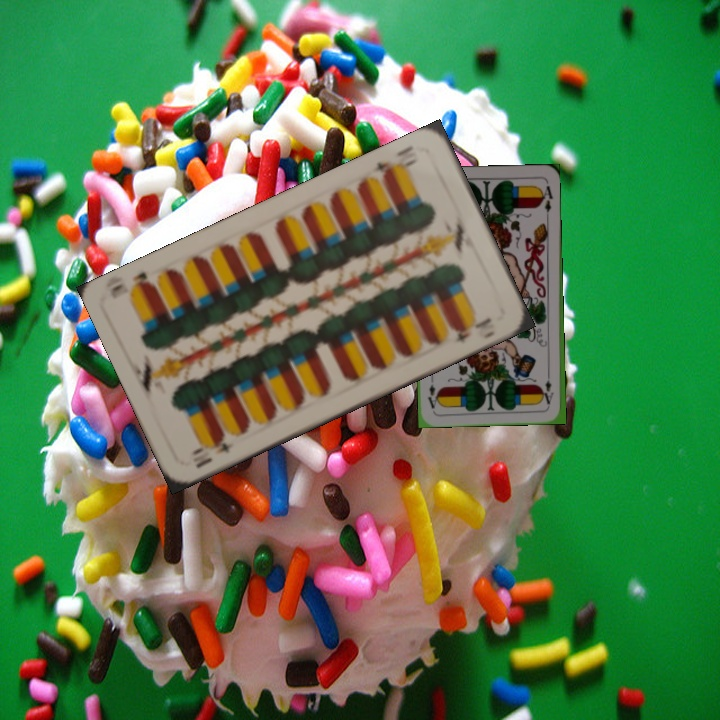E10: (370, 141, 421, 183), (188, 431, 236, 458)
EA: (541, 367, 556, 407)
